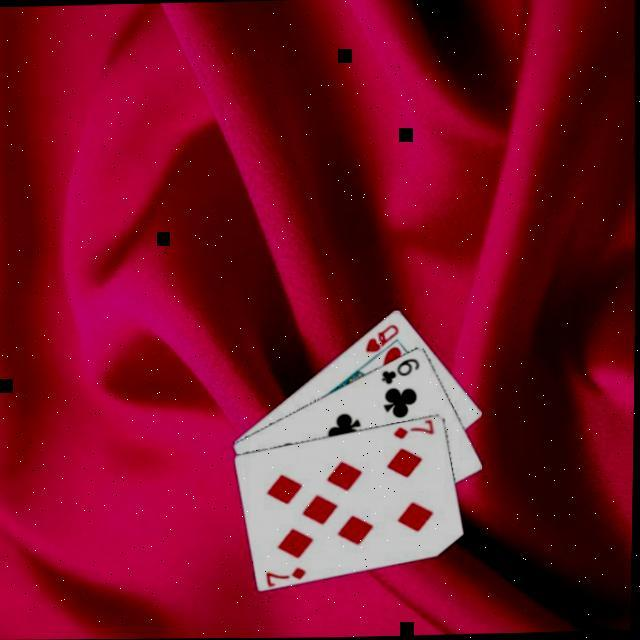6C: (377, 355, 422, 388)
7D: (390, 418, 437, 443), (263, 564, 309, 587)
QH: (361, 322, 402, 357)
